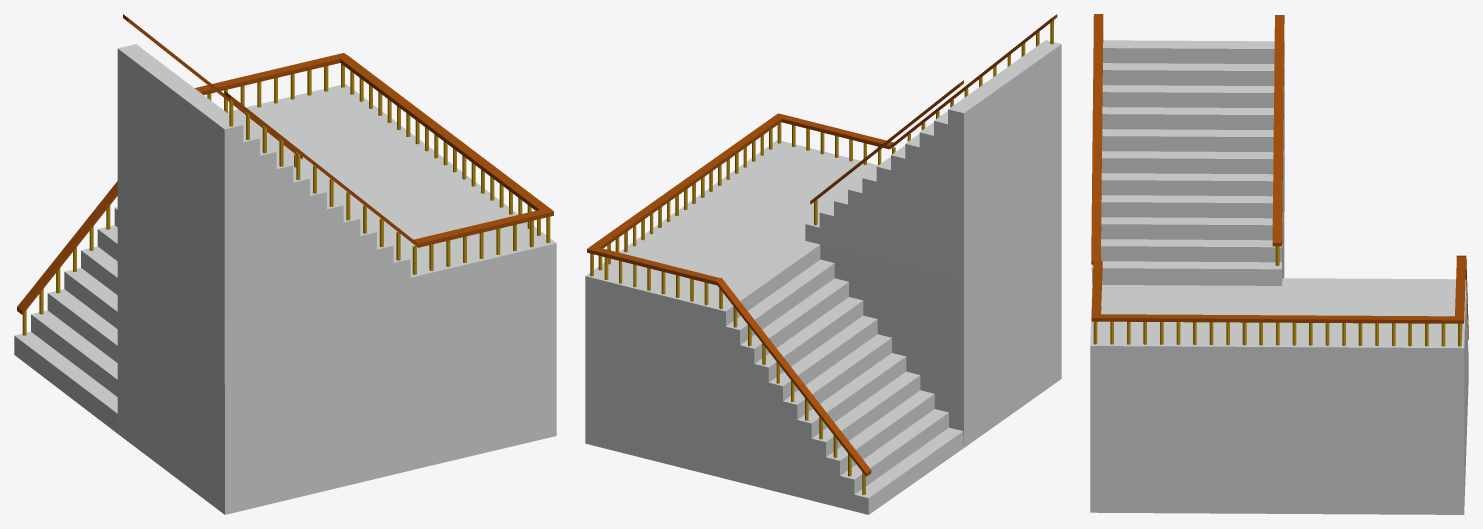
Rendered from Stairs.fbx.
The picture shows the model from 3 angles, left to right: view 1: azimuth 30°, elevation 25°; view 2: azimuth 150°, elevation 25°; view 3: azimuth 270°, elevation 25°; orthographic projection. The views are drawn at different scales.
Visible parts, largest first — view 1: Pillars; view 2: Pillars; view 3: Pillars.
Part boxes in pixels (x1,y1,x2,y2): Pillars: [14, 14, 556, 514]; Pillars: [585, 14, 1061, 514]; Pillars: [1090, 14, 1468, 514].
Bounding box in the file's own units: 172 × 195 × 206.
